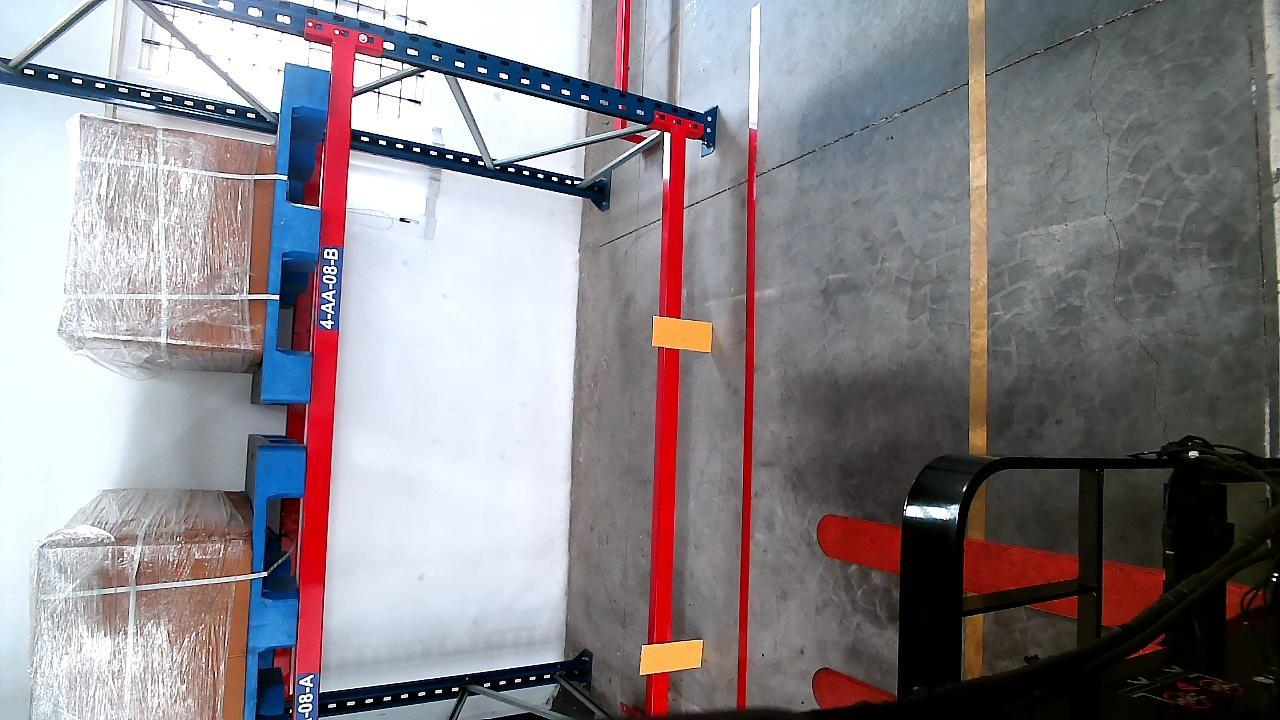red_line: (734, 119, 762, 705)
yellow_line: (968, 0, 992, 447)
